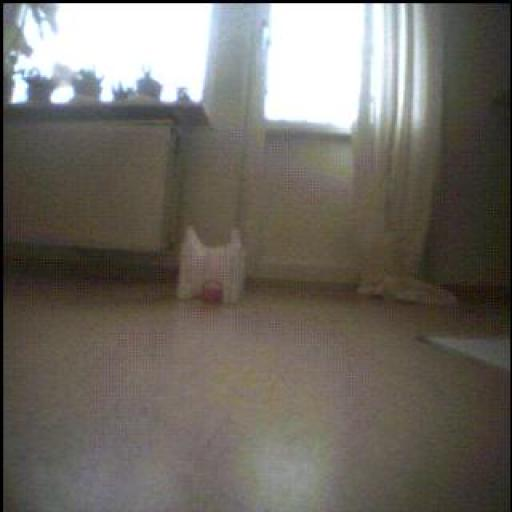Basket: (203, 281, 224, 303)
